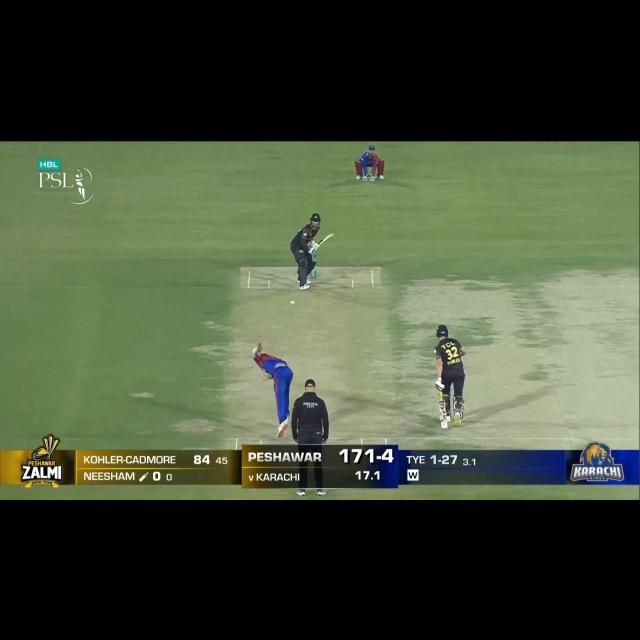bat: (438, 402, 450, 431), (316, 232, 338, 247)
toe: (441, 424, 448, 430), (326, 233, 334, 237)
